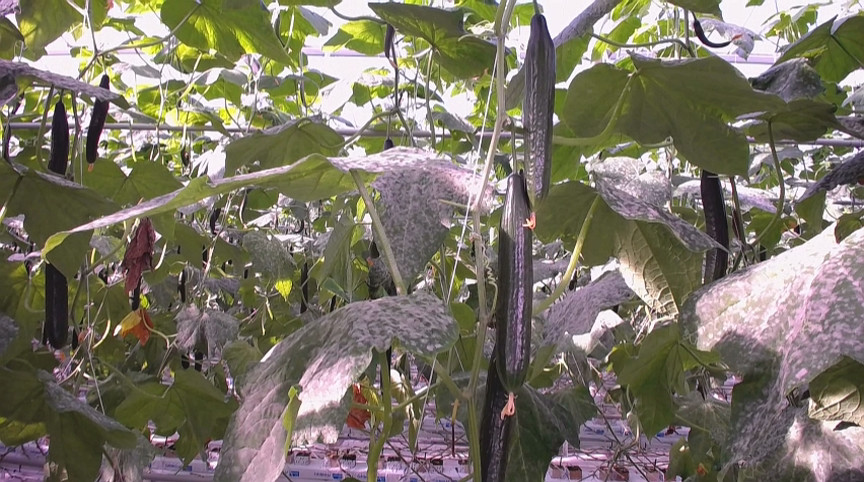cucumber: (497, 178, 530, 392), (520, 17, 556, 209), (481, 349, 515, 482), (700, 169, 729, 287), (85, 72, 110, 163), (43, 263, 68, 348), (48, 103, 70, 175)
